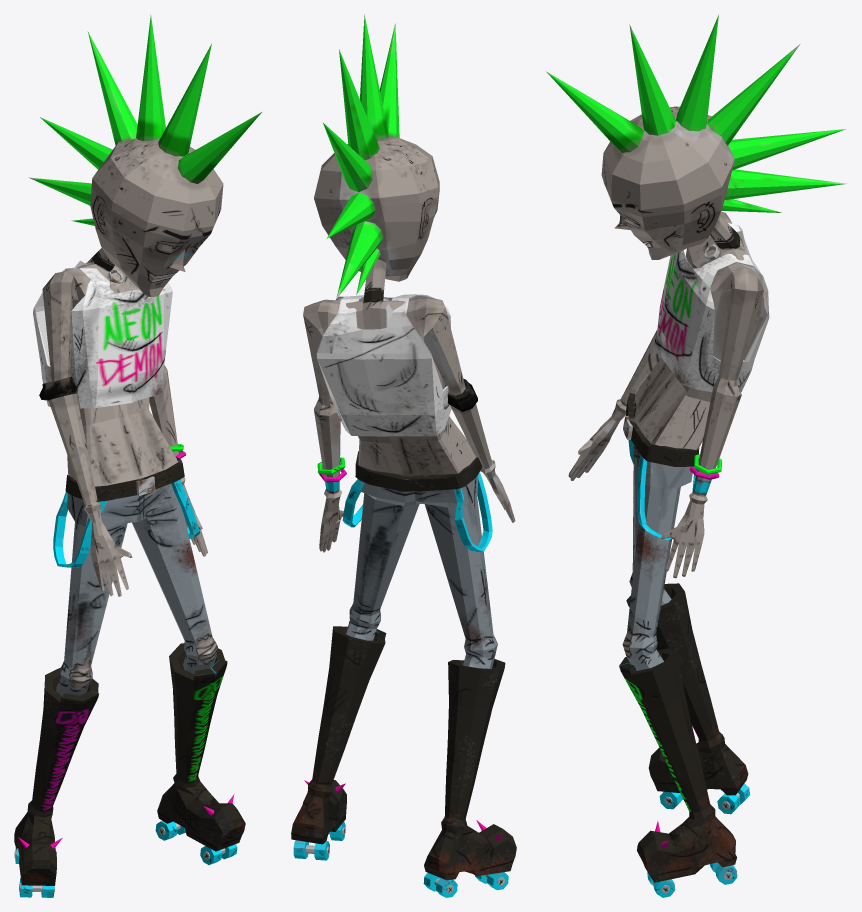
Rendered from punkAnimation_000020.obj.
3 views of the same model, side by side, from view 1: azimuth 30°, elevation 25°; view 2: azimuth 150°, elevation 25°; view 3: azimuth 270°, elevation 25° (orthographic). The views are drawn at different scales.
Parts seen in each view (by area): view 1: Cube.004_Cube.003; view 2: Cube.004_Cube.003; view 3: Cube.004_Cube.003.
Part boxes in pixels (x1,y1,x2,y2): Cube.004_Cube.003: (14, 15, 261, 897); Cube.004_Cube.003: (291, 14, 516, 897); Cube.004_Cube.003: (546, 14, 847, 897).
Size of the model in its own units: 1.96 by 7.33 by 2.35.
